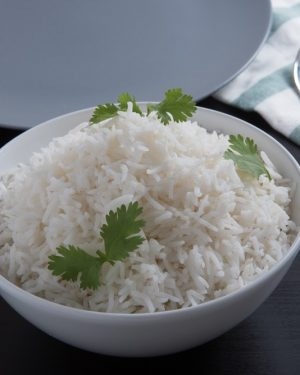plain rice: (2, 123, 283, 287)
